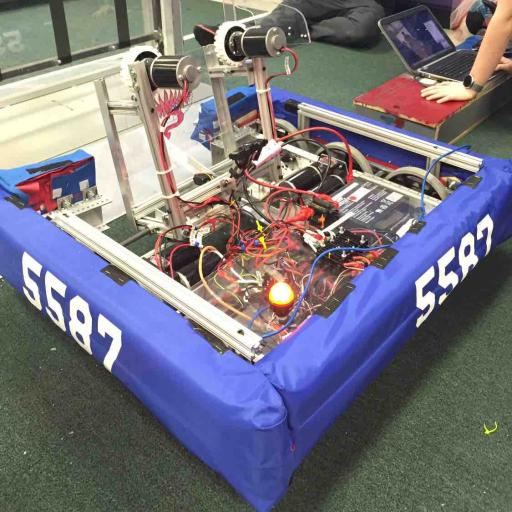robot: (2, 25, 511, 477)
